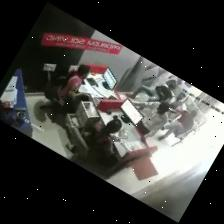person: (51, 64, 89, 121), (82, 116, 121, 161), (132, 101, 169, 143), (57, 65, 89, 104), (158, 110, 196, 140), (130, 80, 175, 101), (170, 93, 184, 109)
